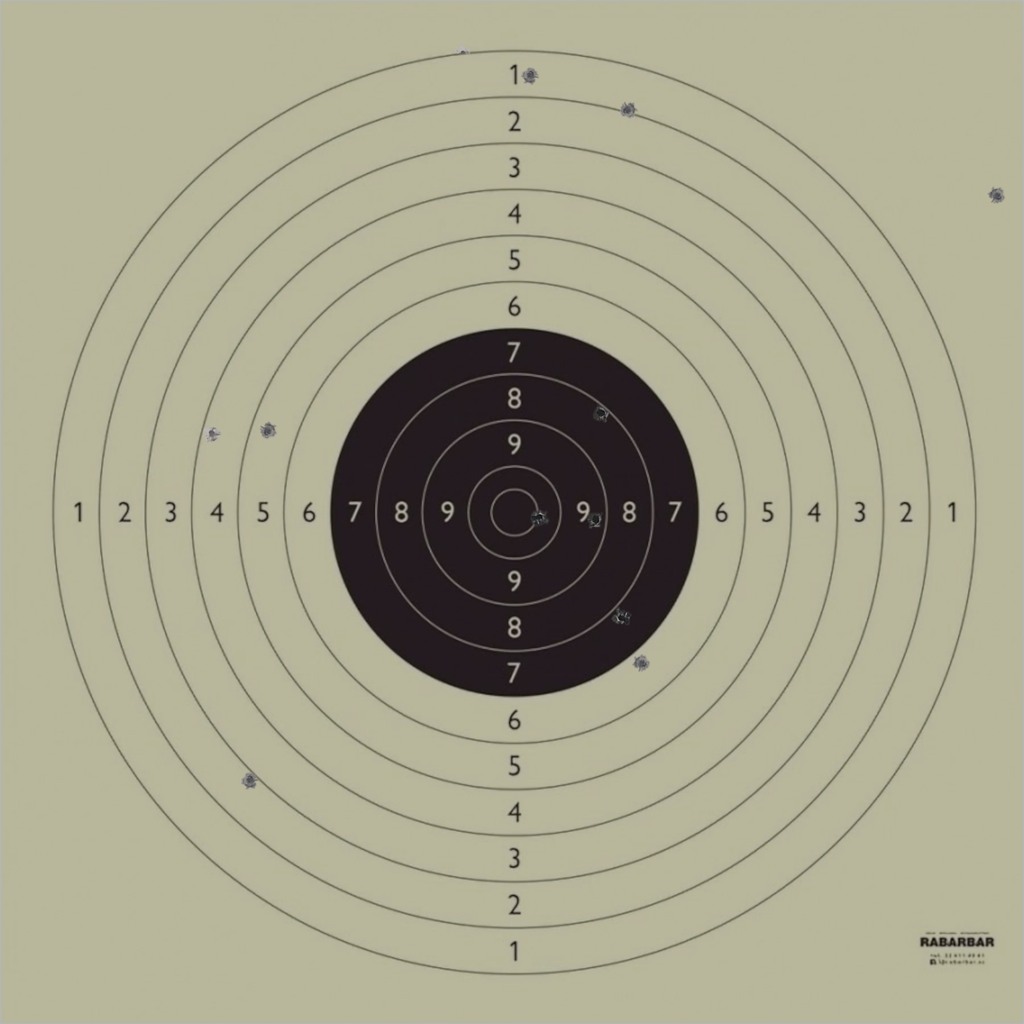0 punktow: (988, 187, 1006, 205)
1 punkt: (521, 66, 540, 85)
10 punktow: (530, 508, 549, 526)
2 punkty: (618, 101, 637, 119)
3 punkty: (241, 771, 259, 789)
4 punkty: (203, 424, 221, 443)
5 punktow: (259, 422, 277, 440)
6 punktow: (633, 654, 651, 673)
7 punktow: (613, 609, 631, 627)
8 punktow: (592, 404, 610, 422)
9 punktow: (586, 511, 605, 529)
